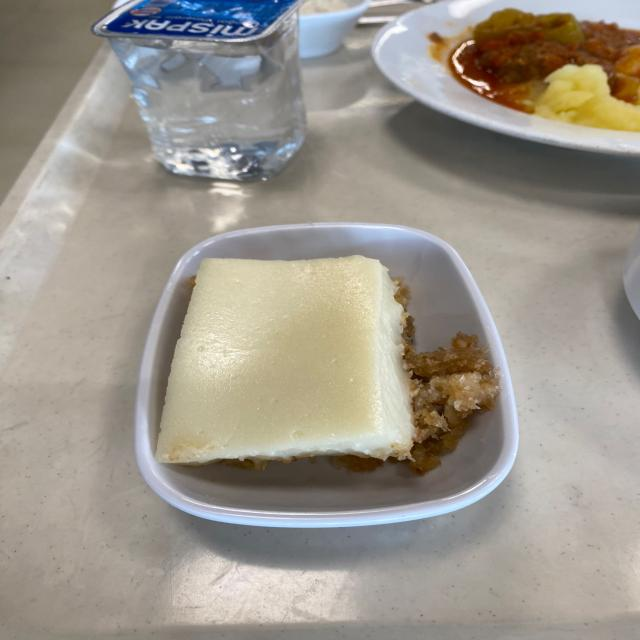yan_yemek: (126, 221, 482, 549)
